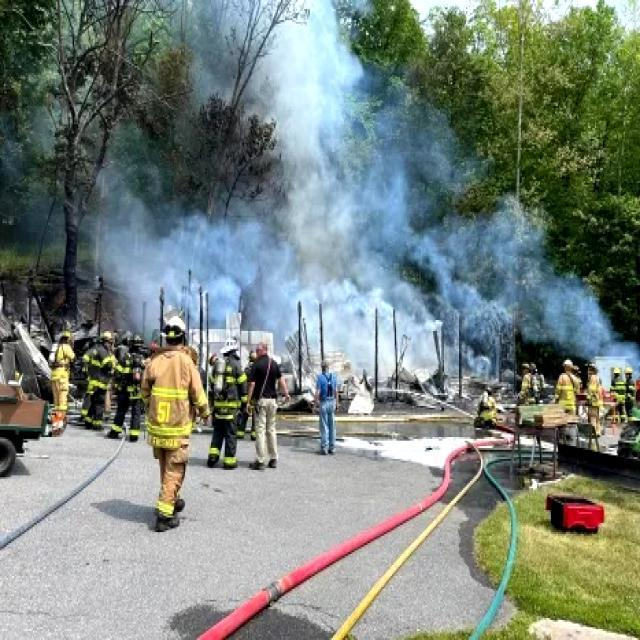Smoke: (98, 0, 504, 344), (493, 232, 640, 380)
